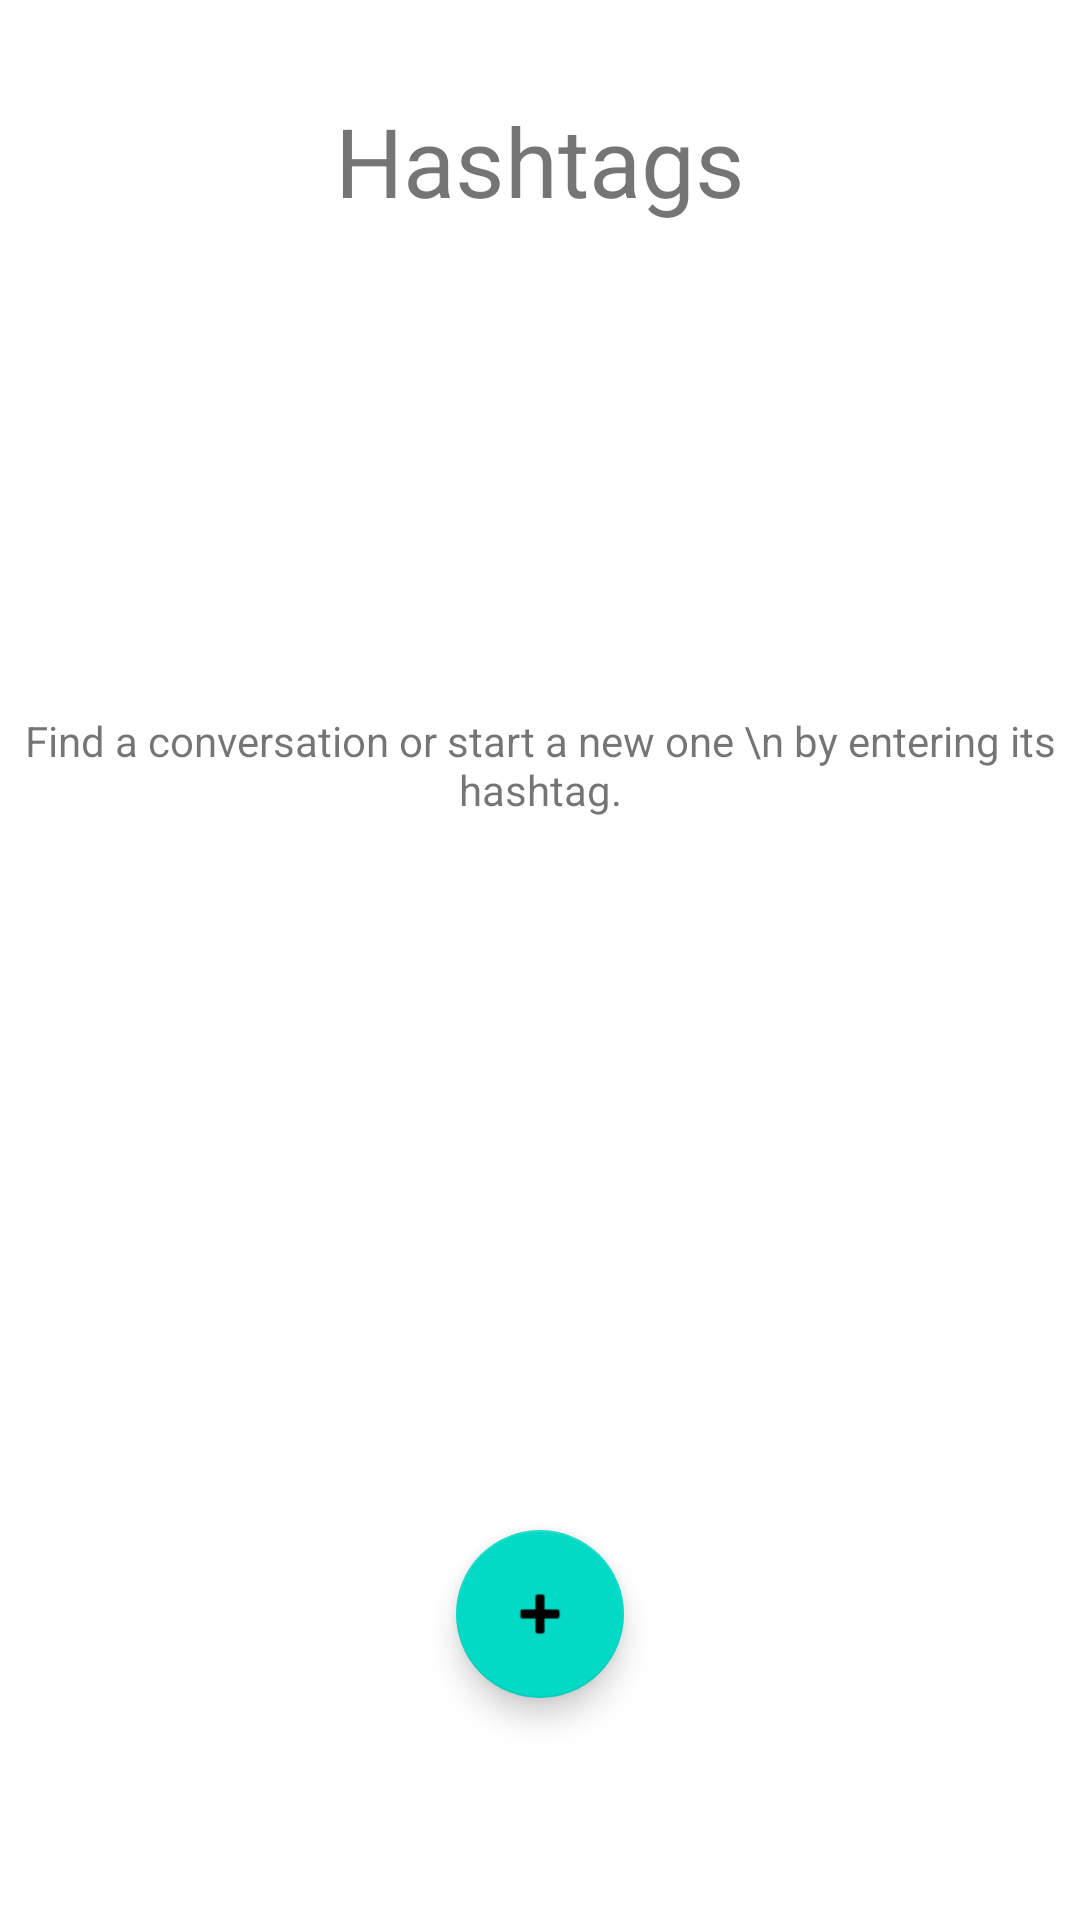

Icons on this 1080 x 1920 Android screen, each with the point to tap as [x,y]:
add: [540,1614]
